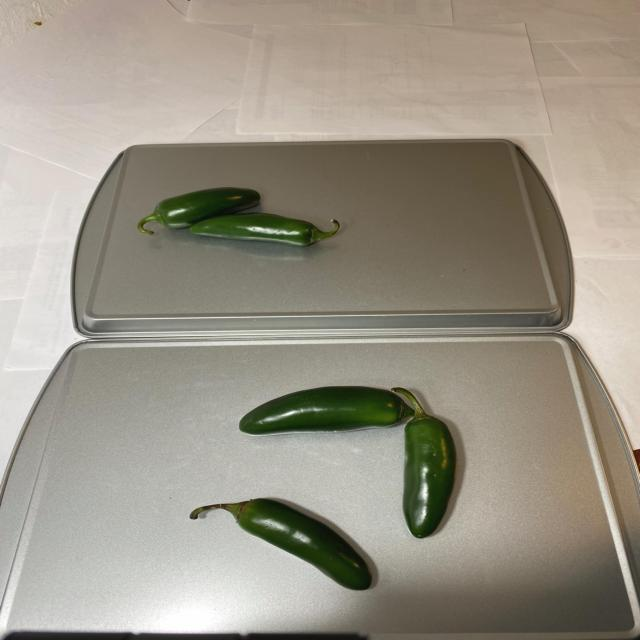chilli: (178, 382, 490, 596), (129, 184, 353, 258)
